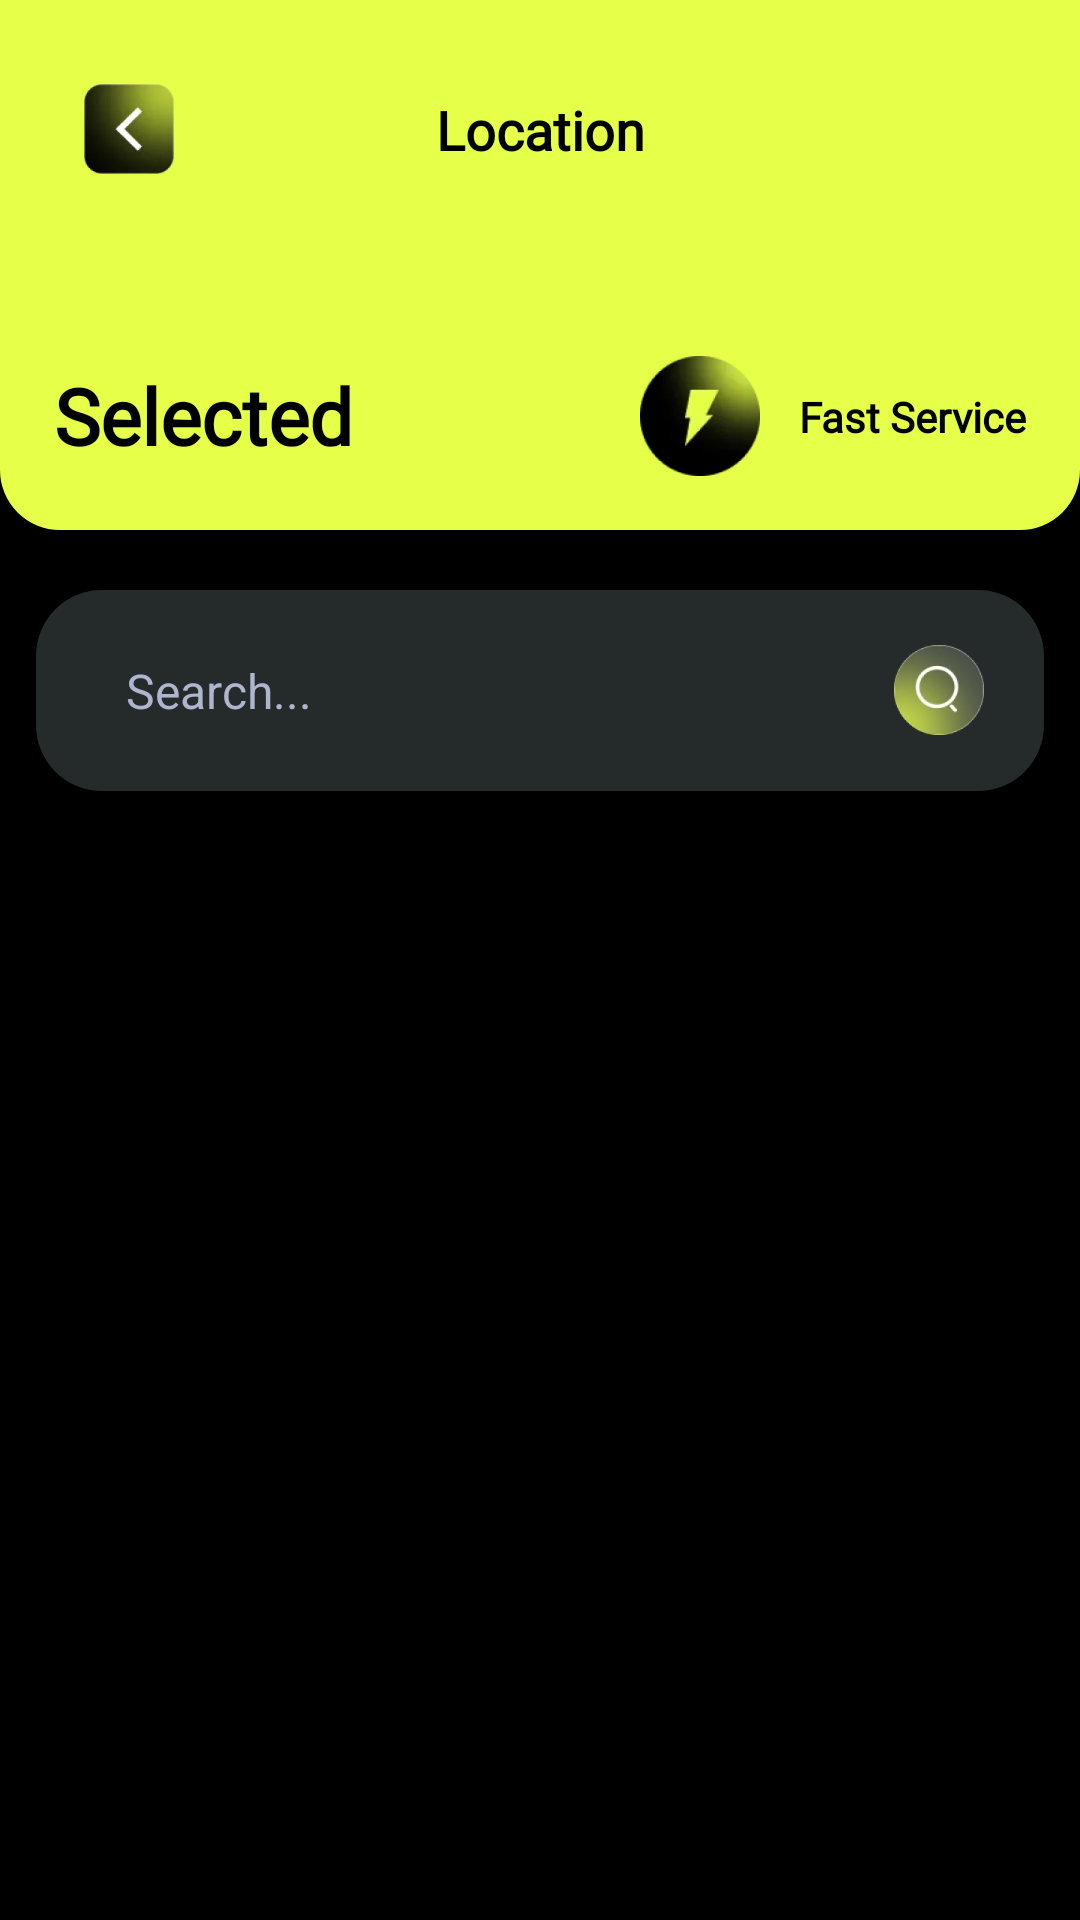

Icons on this 1080px×1920px Android screen, each with the point to tap as (x=x, y=y):
back: (x=129, y=129)
